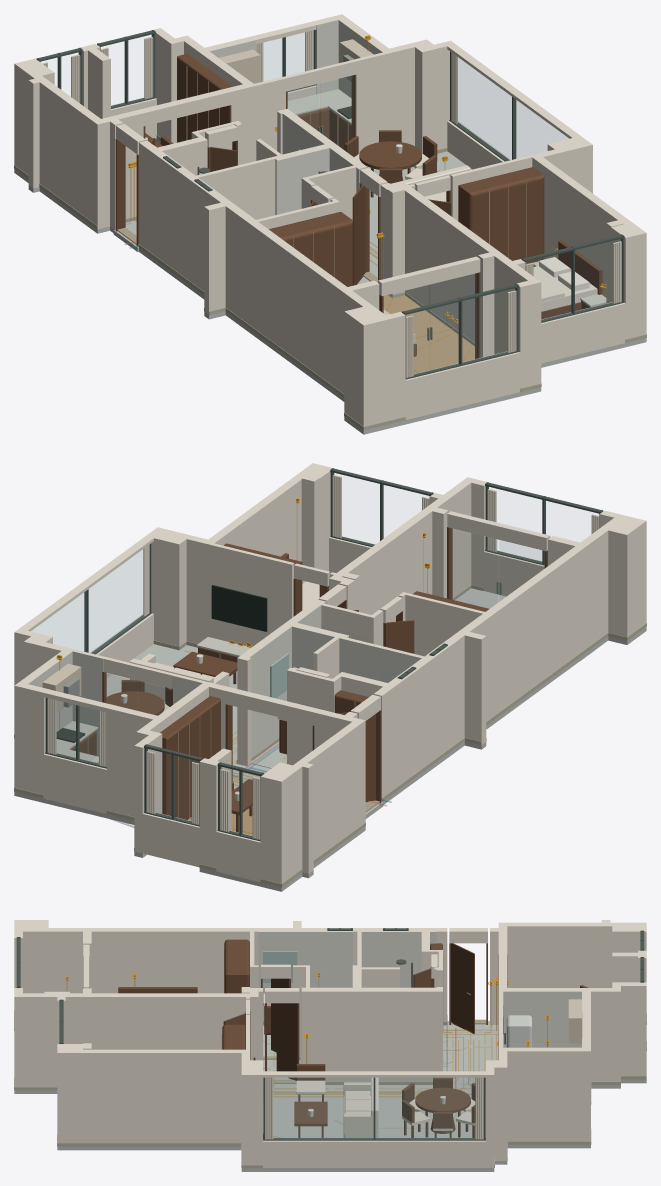
The model's file is apartment-services.glb.
3 views of the same model, one above another, from view 1: azimuth 30°, elevation 25°; view 2: azimuth 150°, elevation 25°; view 3: azimuth 270°, elevation 25° (orthographic). The views are drawn at different scales.
Visible parts, largest first — view 1: cad-wall-1-2.4-0-upper, cad-wall-1-2.4-0-lower, cad-wall-6-2.4-0-upper, cad-wall-3-2.4-0-upper, 墙体剖切上部, cad-wall-2-2.4-0-upper, cad-window-1, cad-wall-7-2.4-0-upper, 卧室B衣柜, 按材料表还原的饰面与细节, cad-window-4, cad-wall-4-2.4-0-upper (+26 smaller); view 2: cad-wall-1-2.4-0-upper, cad-wall-6-2.4-0-upper, cad-wall-1-2.4-0-lower, cad-wall-3-2.4-0-upper, 按材料表还原的饰面与细节, cad-wall-2-2.4-0-upper, 墙体剖切上部, 墙砖剖切上部, cad-window-1, cad-window-3, 阳台推拉门, cad-wall-4-2.4-0-upper (+28 smaller); view 3: cad-wall-1-2.4-0-upper, cad-window-1, cad-wall-3-2.4-0-upper, cad-wall-6-2.4-0-upper, cad-slab-1, 墙砖剖切上部, cad-wall-2-2.4-0-upper, cad-wall-6-2.4-0-lower, cad-wall-7-2.4-0-upper, cad-wall-1-2.4-0-lower, 墙体剖切上部, cad-wall-4-2.4-0-upper (+22 smaller).
Boxes of the visible parts, x1,y1,x2,y2 form: cad-wall-1-2.4-0-upper: (139, 109, 405, 388); cad-wall-1-2.4-0-lower: (139, 206, 405, 426); cad-wall-6-2.4-0-upper: (450, 136, 646, 301); cad-wall-3-2.4-0-upper: (380, 181, 541, 350); 墙体剖切上部: (116, 21, 580, 295); cad-wall-2-2.4-0-upper: (14, 58, 143, 188); cad-window-1: (447, 51, 568, 169); cad-wall-7-2.4-0-upper: (313, 14, 455, 124); 卧室B衣柜: (458, 167, 544, 264); 按材料表还原的饰面与细节: (14, 30, 646, 430); cad-window-4: (402, 283, 520, 419); cad-wall-4-2.4-0-upper: (153, 28, 285, 152); cad-wall-1-2.4-0-upper: (237, 510, 646, 759); cad-wall-6-2.4-0-upper: (146, 463, 331, 625); cad-wall-1-2.4-0-lower: (237, 585, 646, 801); cad-wall-3-2.4-0-upper: (329, 477, 486, 614); 按材料表还原的饰面与细节: (14, 475, 646, 887); cad-wall-2-2.4-0-upper: (260, 709, 365, 845); 墙体剖切上部: (19, 511, 550, 725); 墙砖剖切上部: (28, 601, 480, 726); cad-window-1: (31, 543, 153, 678); cad-window-3: (44, 698, 106, 813); 阳台推拉门: (447, 527, 547, 608); cad-wall-4-2.4-0-upper: (107, 674, 230, 811); cad-wall-1-2.4-0-upper: (14, 920, 447, 1047); cad-window-1: (263, 1077, 485, 1167); cad-wall-3-2.4-0-upper: (14, 988, 262, 1053); cad-wall-6-2.4-0-upper: (57, 1015, 262, 1131); cad-slab-1: (14, 1021, 646, 1171); 墙砖剖切上部: (258, 931, 582, 1047); cad-wall-2-2.4-0-upper: (490, 920, 646, 987); cad-wall-6-2.4-0-lower: (57, 1109, 262, 1164); cad-wall-7-2.4-0-upper: (486, 1035, 590, 1131); cad-wall-1-2.4-0-lower: (23, 988, 447, 1081); 墙体剖切上部: (83, 928, 590, 1077); cad-wall-4-2.4-0-upper: (498, 980, 646, 1047).
Size of the model in its own units: 8.57 by 2.92 by 14.77.
